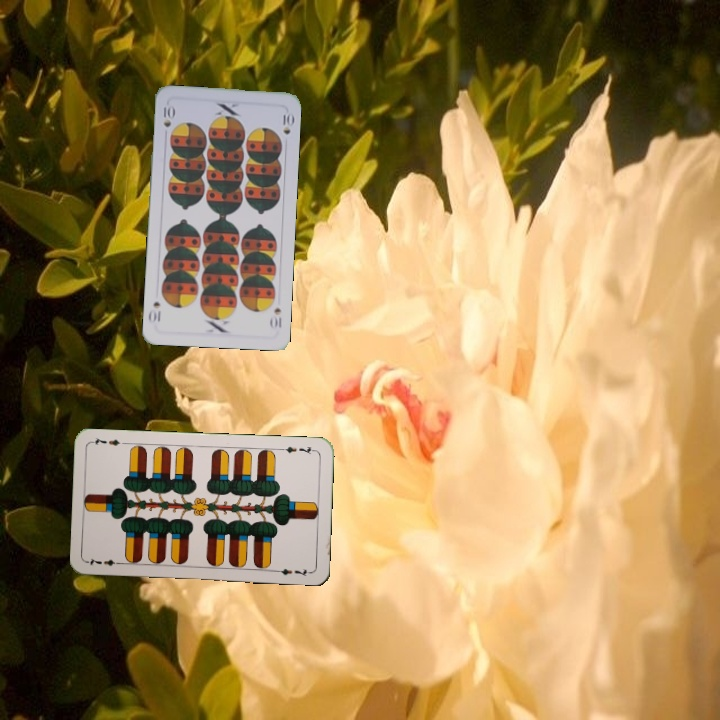E7: (277, 442, 318, 457), (84, 554, 125, 568)
S10: (266, 304, 284, 331), (159, 102, 176, 130)
